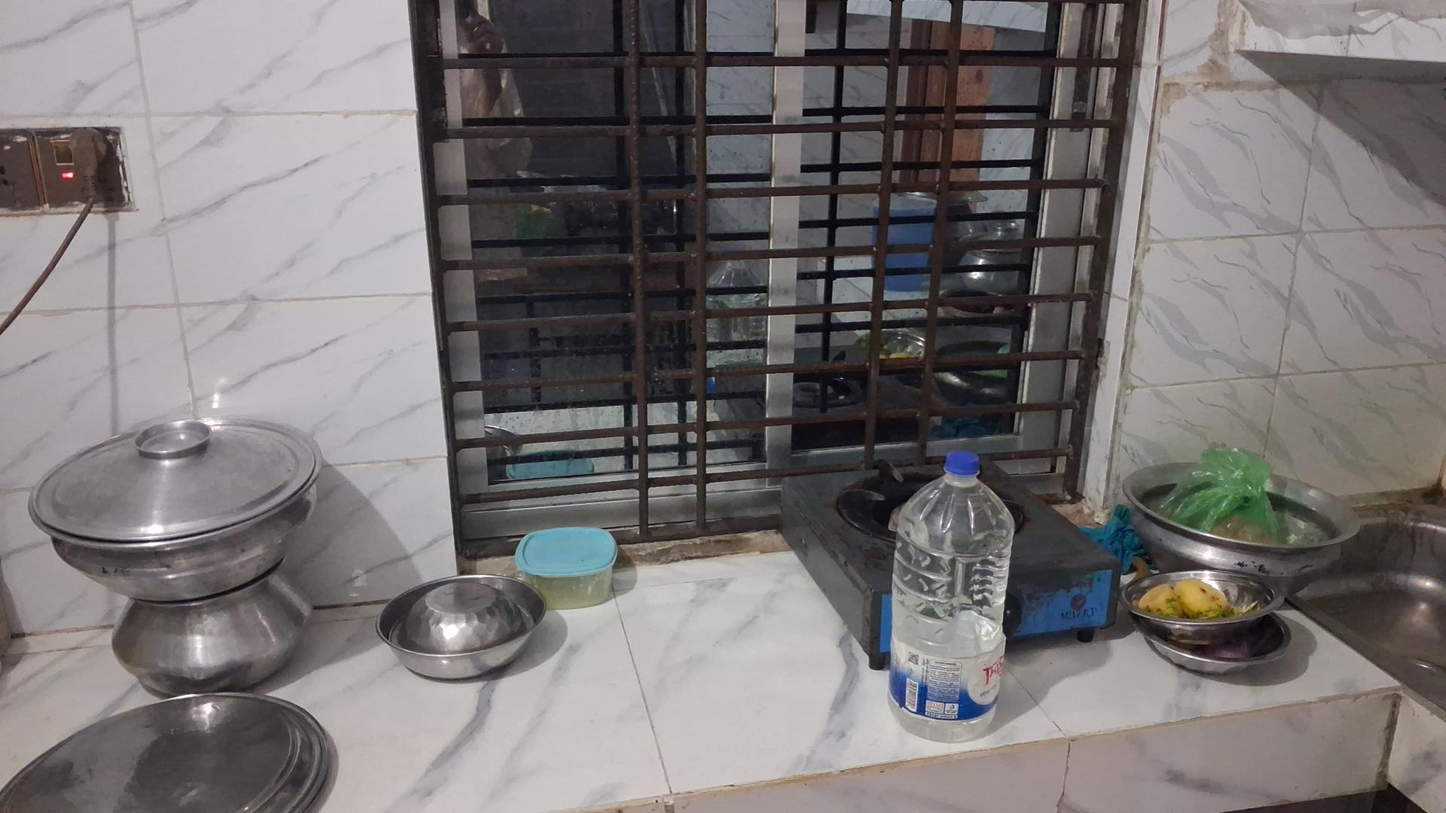Bowl: (377, 579, 542, 680), (1128, 556, 1282, 638), (1141, 616, 1282, 680)
Glass: (887, 454, 1016, 742)
Jar: (515, 523, 619, 609)
Pot: (30, 425, 326, 597), (0, 694, 332, 813), (1122, 454, 1360, 611), (116, 589, 314, 690)
